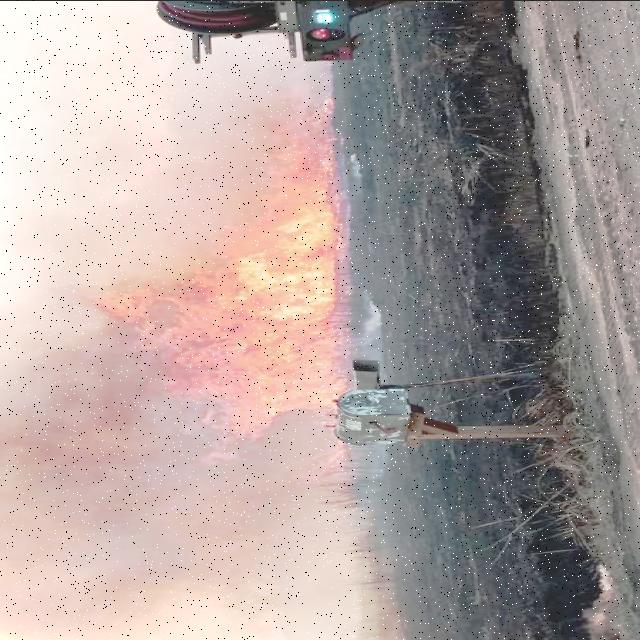api: (83, 101, 345, 477)
asap: (1, 437, 363, 640)
